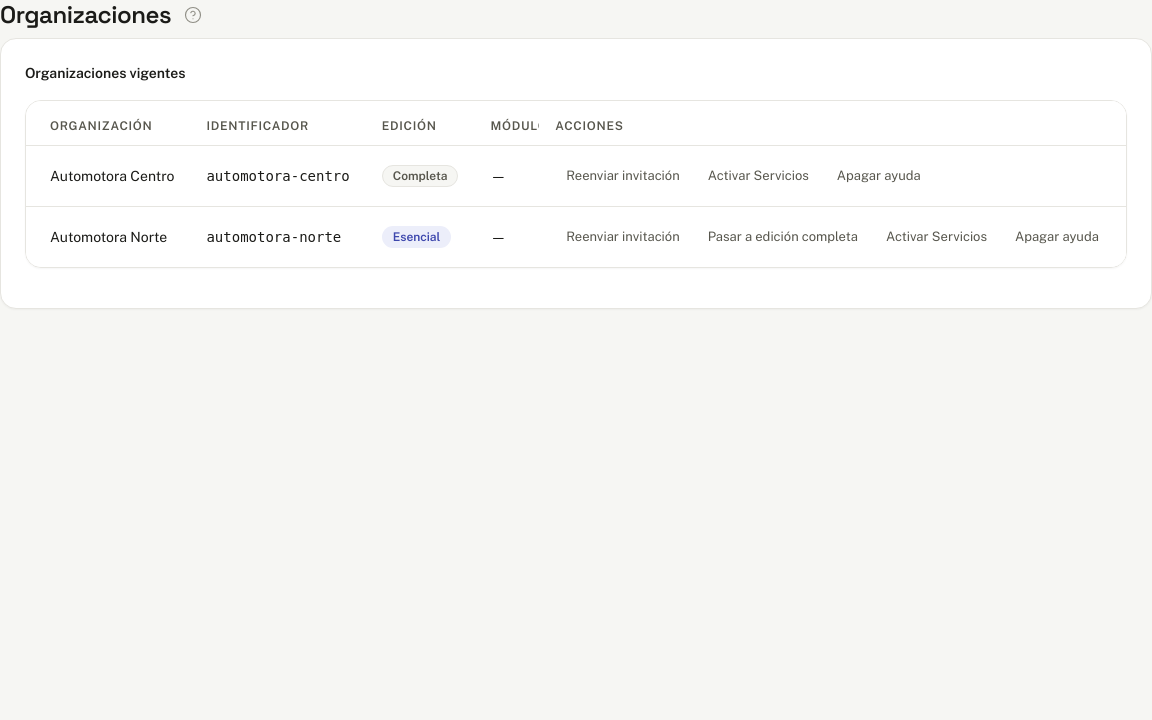
Test: OrganizationsPage › reenviar la invitación: si el administrador ya la aceptó, muestra el error del backend
Click the button "Reenviar invitación" in the row of "Automotora Centro".
click(623, 176)  # box [555, 160, 691, 192]
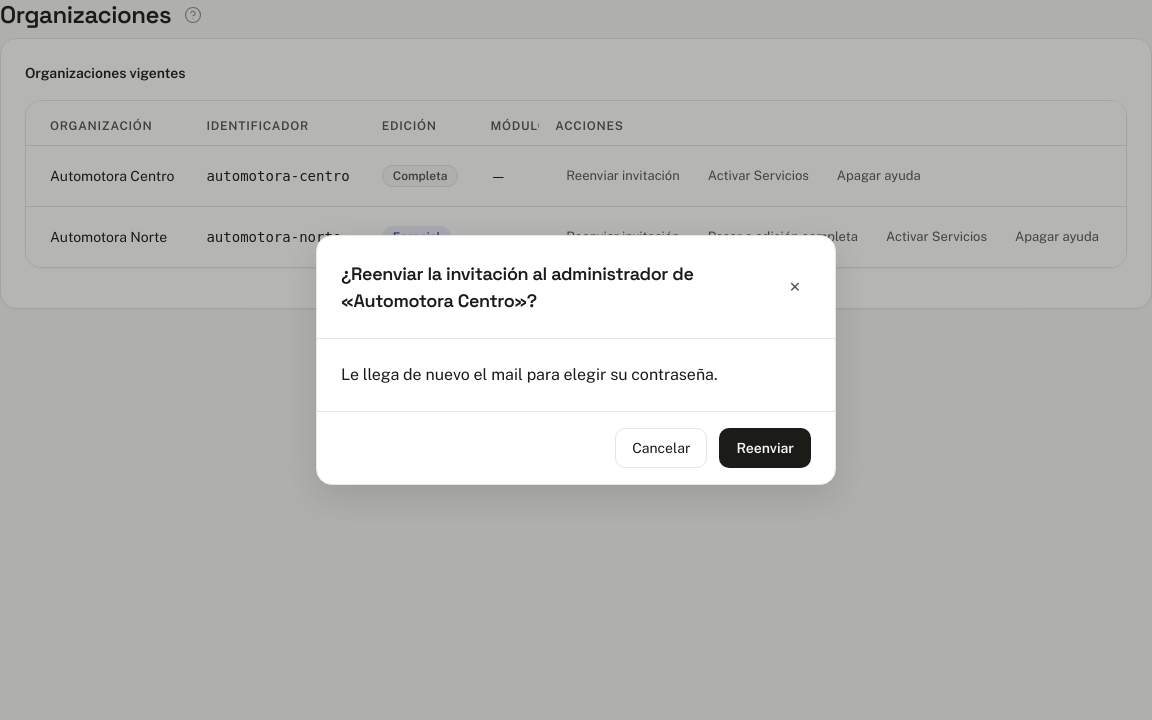
Click the button "Reenviar".
click(765, 448)  # box [719, 428, 811, 468]
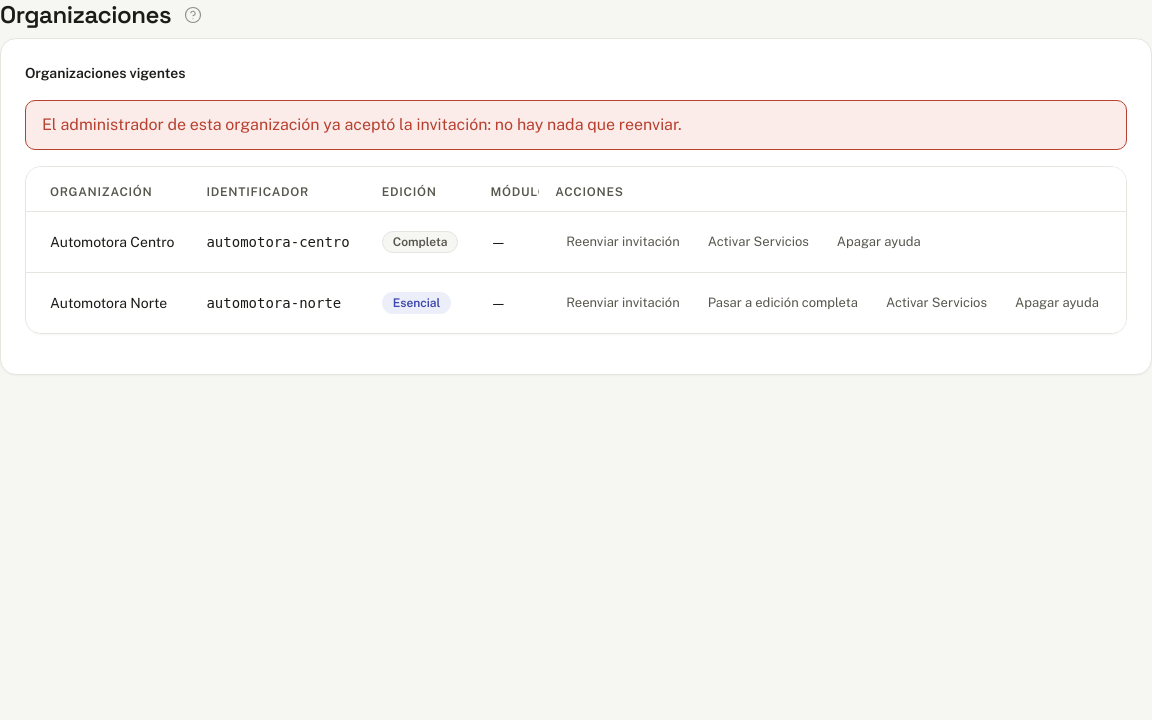
Check: the text "El administrador de esta organización ya aceptó la invitación: no hay nada que reenviar." is shown, box [42, 115, 682, 134]
